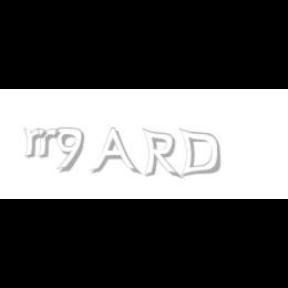9: (55, 128, 84, 172)
A: (90, 128, 138, 176)
D: (178, 128, 220, 178)
R: (142, 128, 180, 180)
r: (36, 128, 64, 158), (23, 128, 50, 158)
